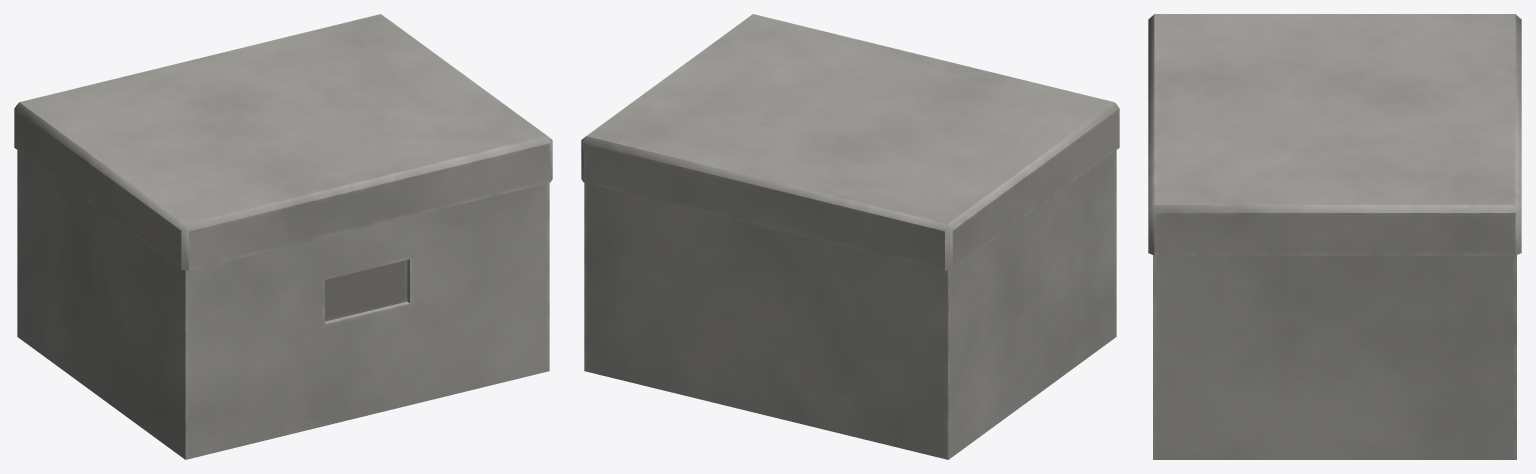
File: Basket.fbx
3 renders of one model, left to right at view 1: azimuth 30°, elevation 25°; view 2: azimuth 150°, elevation 25°; view 3: azimuth 270°, elevation 25°, orthographic. The views are drawn at different scales.
Visible parts, largest first — view 1: basket; view 2: basket; view 3: basket.
Boxes of the visible parts, <box> form: basket: <box>14,14,552,459</box>; basket: <box>581,14,1119,459</box>; basket: <box>1148,14,1521,459</box>.
Bounding box in the file's own units: 0.306 × 0.185 × 0.246.
Materials: 1 (1 with a texture image).
